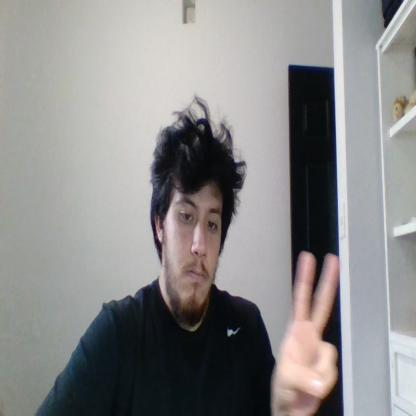V: (270, 251, 342, 415)
